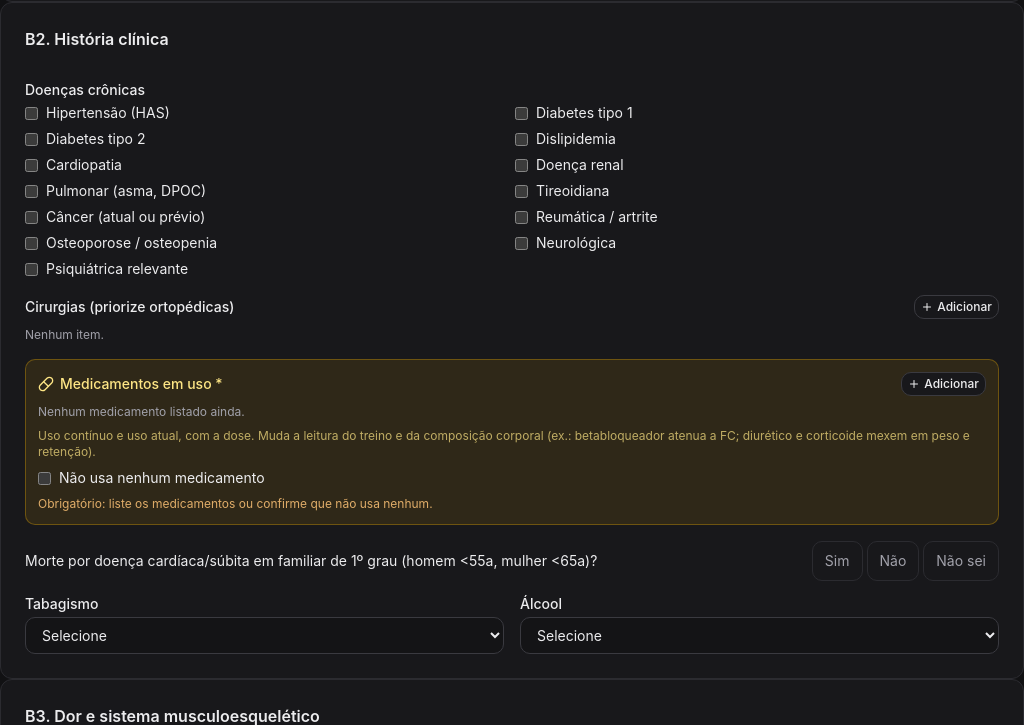
Test: medicamentos em uso — pergunta obrigatória › medicamento nomeado responde, e a linha em branco não
(page scrolled)
Click the button "Adicionar" in the row of "Medicamentos em uso *" at (944, 384), box [901, 372, 986, 396]
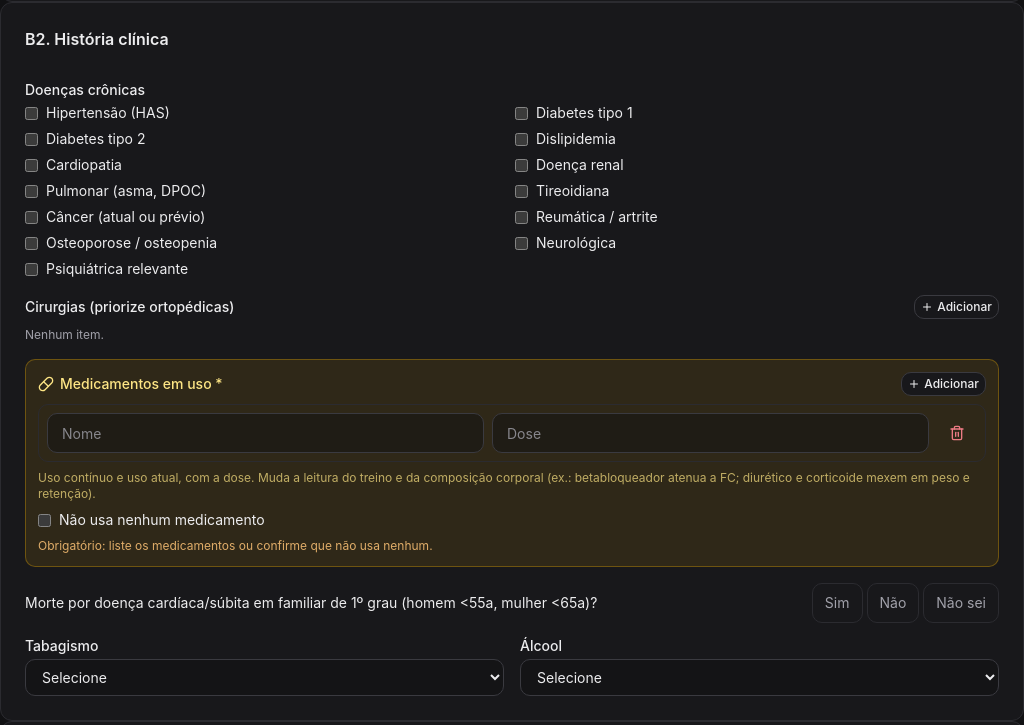
Check: the text "Obrigatório: liste os medicamentos ou confirme que não usa nenhum." is shown, box [38, 538, 433, 553]
Type "levotiroxina" into the field named "Medicamento 1: nome" at (266, 433), box [47, 413, 484, 453]
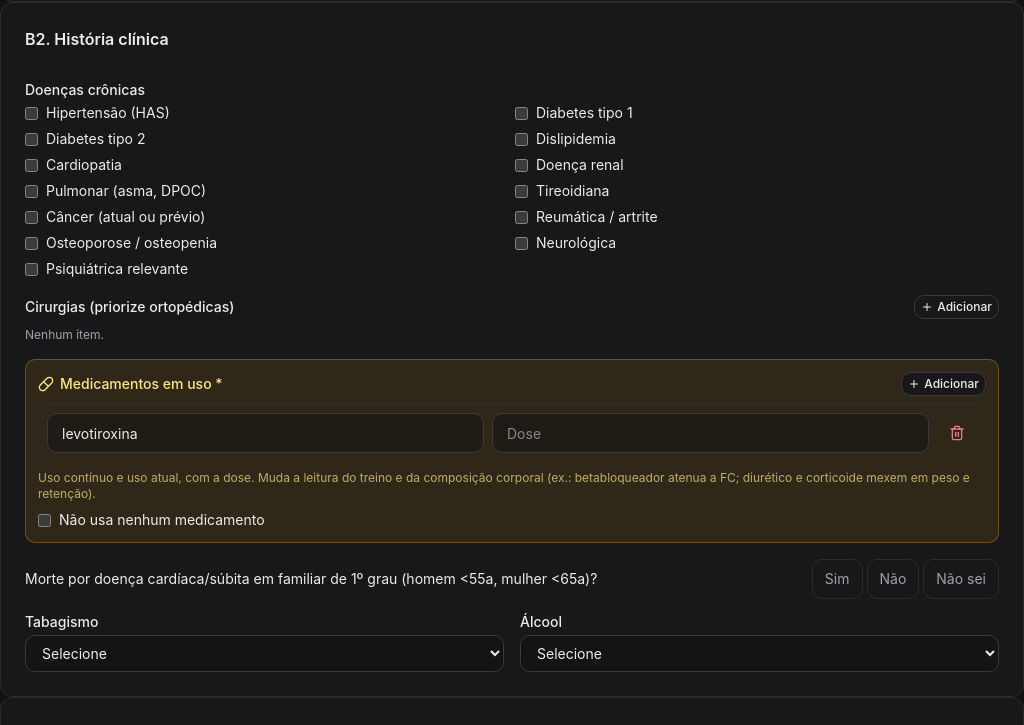
Check: the text "liste os medicamentos ou confirme que não usa nenhum" is gone
